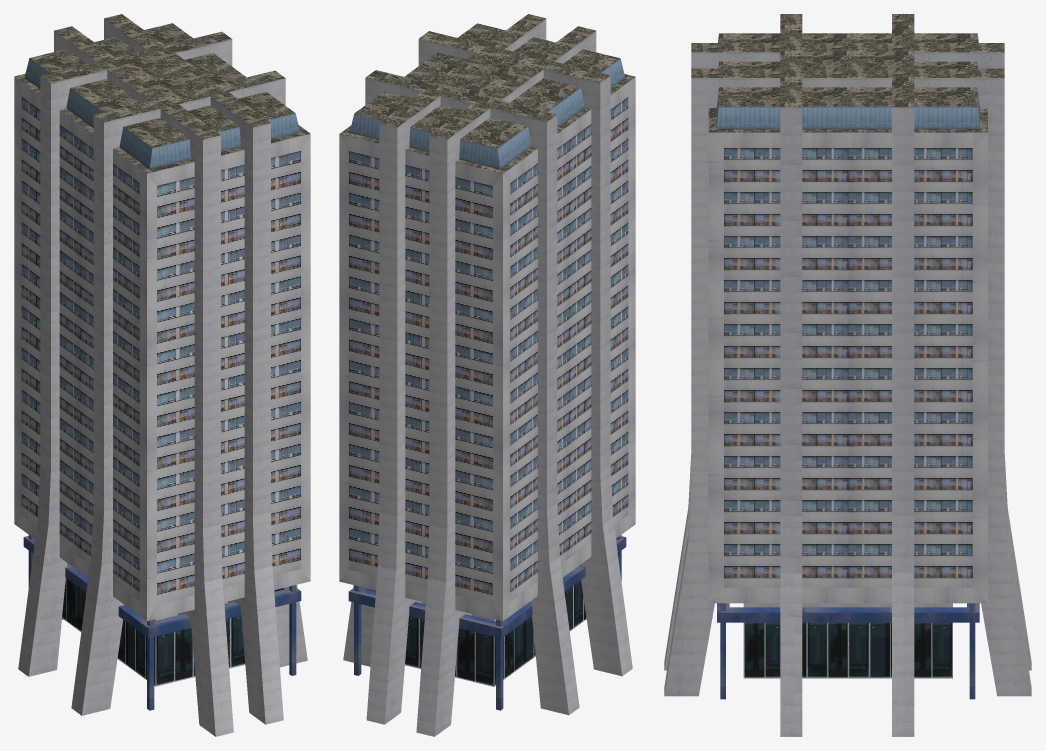
Rendered from skyscr01_lawn.obj.
3 views of the same model, side by side, from view 1: azimuth 30°, elevation 25°; view 2: azimuth 150°, elevation 25°; view 3: azimuth 270°, elevation 25° (orthographic). The views are drawn at different scales.
Visible parts, largest first — view 1: skyscr01_LAwN; view 2: skyscr01_LAwN; view 3: skyscr01_LAwN.
Boxes of the visible parts, x1,y1,x2,y2 form: skyscr01_LAwN: [14, 14, 310, 736]; skyscr01_LAwN: [339, 14, 635, 736]; skyscr01_LAwN: [664, 14, 1031, 736].
Bounding box in the file's own units: 48.86 × 121 × 65.39.
